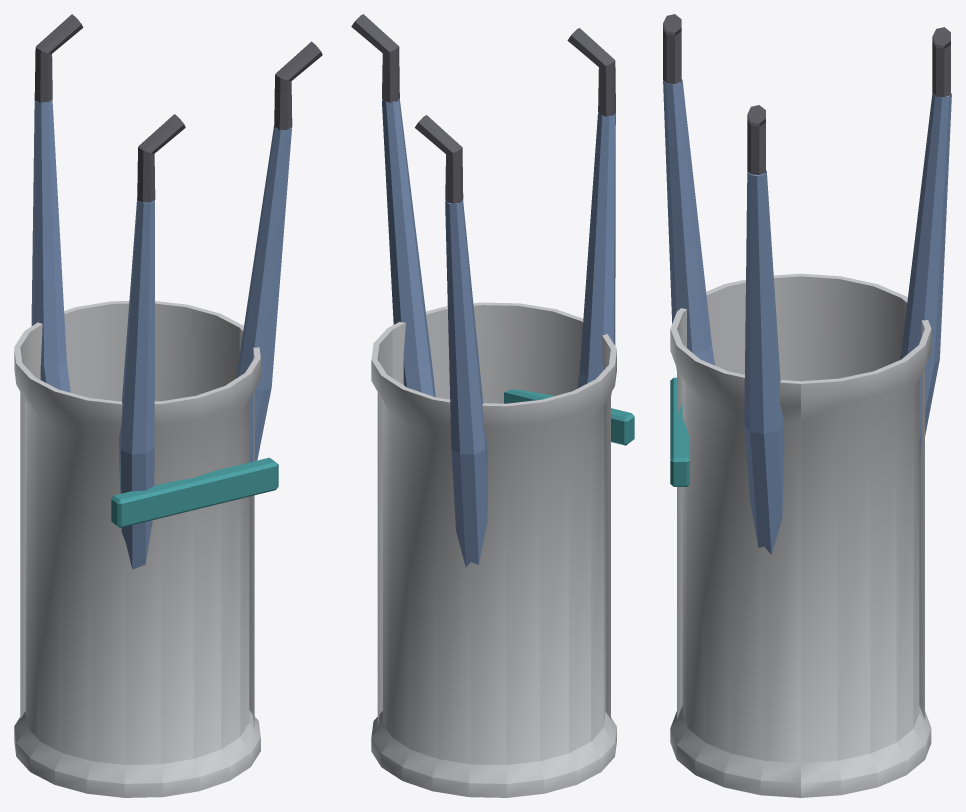
File: dry-cleaners-and-alterations-shop-umbrella-stand-15129671__34949.glb
3 views of the same model, side by side, from view 1: azimuth 30°, elevation 25°; view 2: azimuth 150°, elevation 25°; view 3: azimuth 270°, elevation 25° (orthographic). The views are drawn at different scales.
Parts seen in each view (by area): view 1: umbrella-stand; view 2: umbrella-stand; view 3: umbrella-stand.
Part boxes in pixels (box(x1,y1,x2,y2)): umbrella-stand: box(14, 14, 322, 797); umbrella-stand: box(351, 14, 634, 797); umbrella-stand: box(663, 14, 951, 797).
Bounding box in the file's own units: 0.4019 × 0.97 × 0.3543.
